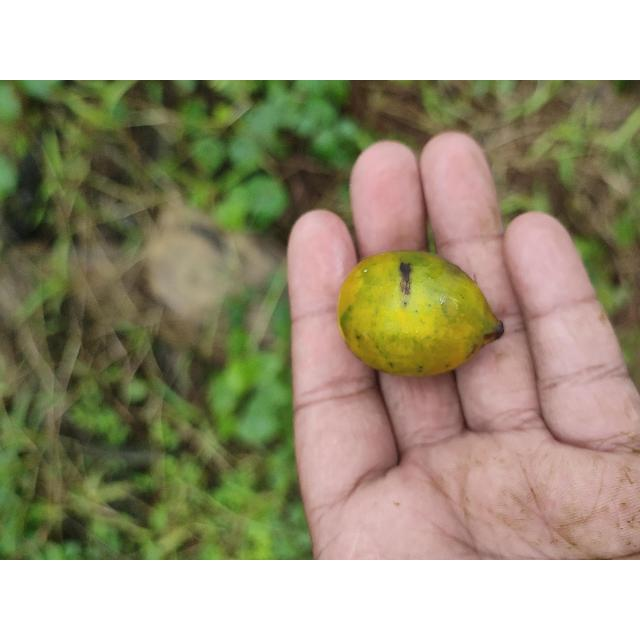good: (338, 251, 503, 376)
